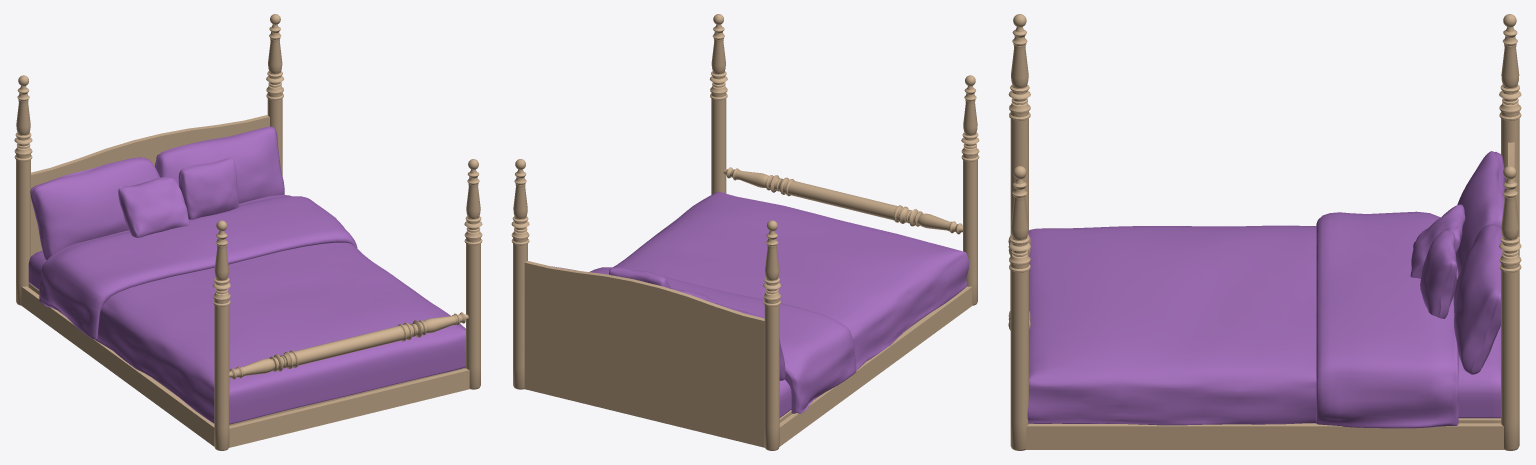
Rendered from bed.glb.
3 views of the same model, side by side, from view 1: azimuth 30°, elevation 25°; view 2: azimuth 150°, elevation 25°; view 3: azimuth 270°, elevation 25° (orthographic). The views are drawn at different scales.
Visible parts, largest first — view 1: Full_Size_Bed_With_Crimson_Sheets_Honey_V1; view 2: Full_Size_Bed_With_Crimson_Sheets_Honey_V1; view 3: Full_Size_Bed_With_Crimson_Sheets_Honey_V1.
Part boxes in pixels (box(x1,y1,x2,y2)): Full_Size_Bed_With_Crimson_Sheets_Honey_V1: box(14, 14, 482, 450); Full_Size_Bed_With_Crimson_Sheets_Honey_V1: box(511, 14, 979, 450); Full_Size_Bed_With_Crimson_Sheets_Honey_V1: box(1008, 14, 1521, 450).
Size of the model in its own units: 3.76 by 3.01 by 4.98.
